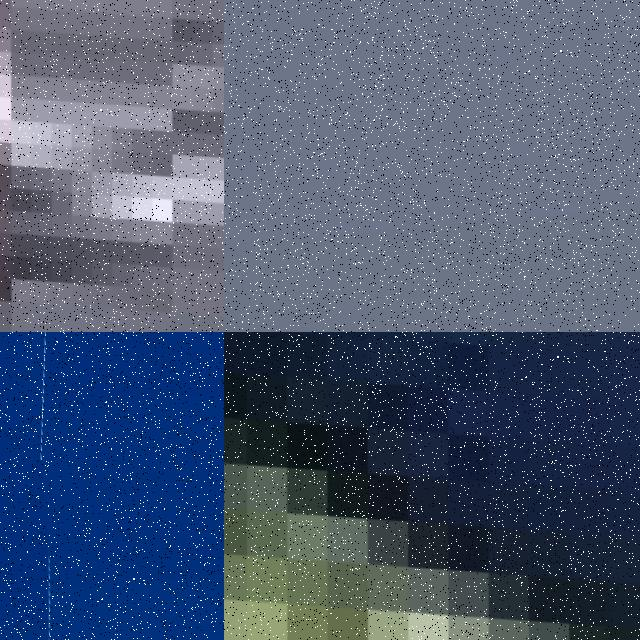drone: (224, 332, 640, 640), (0, 0, 224, 332), (0, 332, 79, 640)
